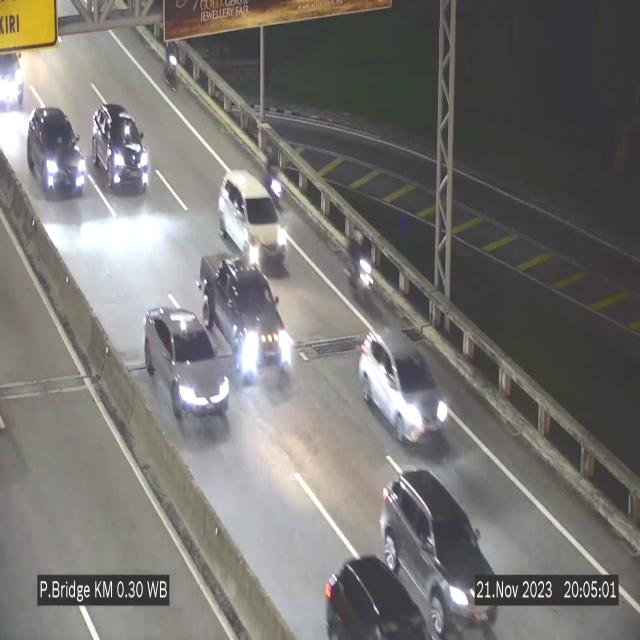Car: (380, 468, 500, 632), (200, 251, 294, 393), (312, 542, 434, 640), (144, 306, 230, 434), (358, 331, 452, 443), (218, 170, 287, 272), (26, 106, 88, 198), (91, 104, 150, 192), (0, 36, 38, 114)
Motorcycle: (344, 228, 377, 311), (264, 142, 282, 206), (164, 35, 182, 97)
